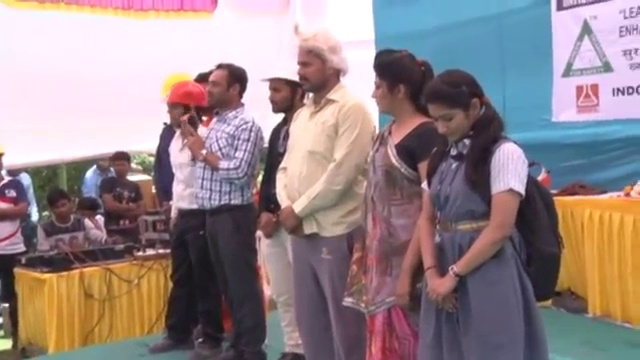helmet: (157, 80, 209, 109), (262, 59, 304, 82)
helmet_off: (421, 66, 493, 154), (368, 48, 432, 117), (292, 33, 349, 97), (197, 63, 249, 117), (46, 188, 73, 223), (74, 196, 100, 223), (109, 154, 131, 183), (94, 157, 112, 173)
helmet_on: (157, 81, 209, 140), (260, 59, 304, 116)
person: (412, 65, 561, 360), (277, 32, 377, 360), (354, 48, 440, 360), (178, 57, 264, 360), (148, 76, 223, 360), (260, 54, 314, 360), (34, 186, 113, 256), (100, 154, 144, 244), (0, 159, 30, 268), (81, 157, 115, 202)
